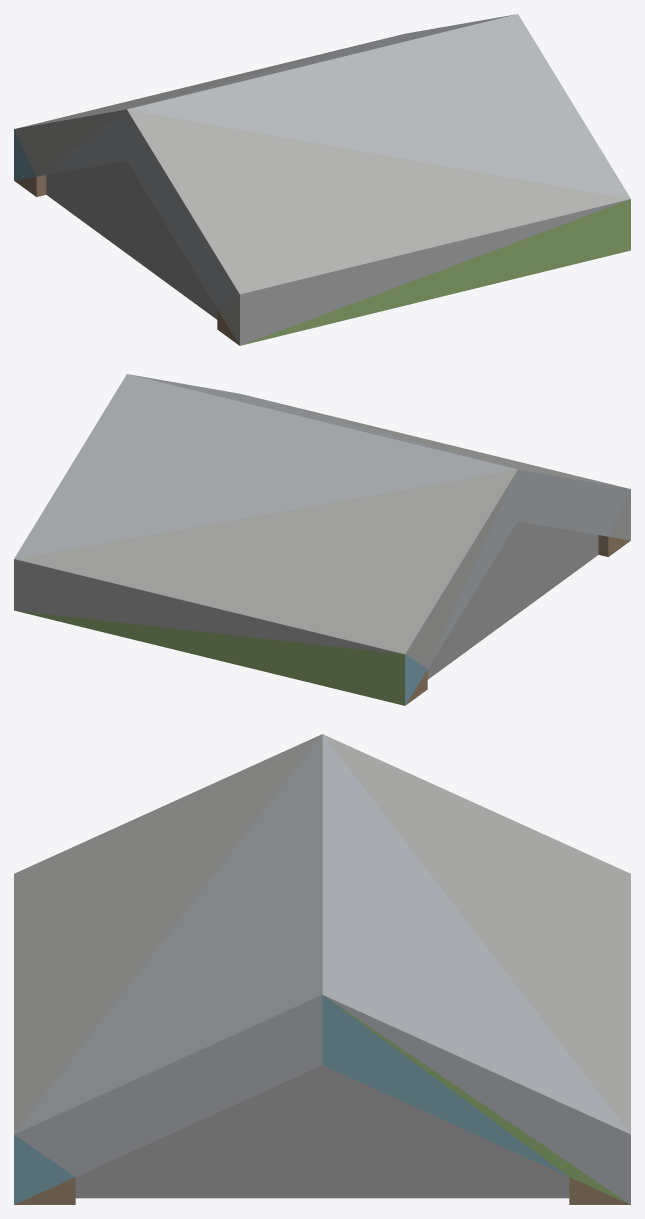
The picture shows the model from 3 angles, top to bottom: view 1: azimuth 30°, elevation 25°; view 2: azimuth 150°, elevation 25°; view 3: azimuth 270°, elevation 25°; orthographic projection. The views are drawn at different scales.
Visible parts, largest first — view 1: model; view 2: model; view 3: model.
Boxes of the visible parts, <box> form: model: <box>14,14,630,345</box>; model: <box>14,374,630,705</box>; model: <box>14,734,630,1204</box>.
Size of the model in its own units: 2 by 0.7518 by 2.
